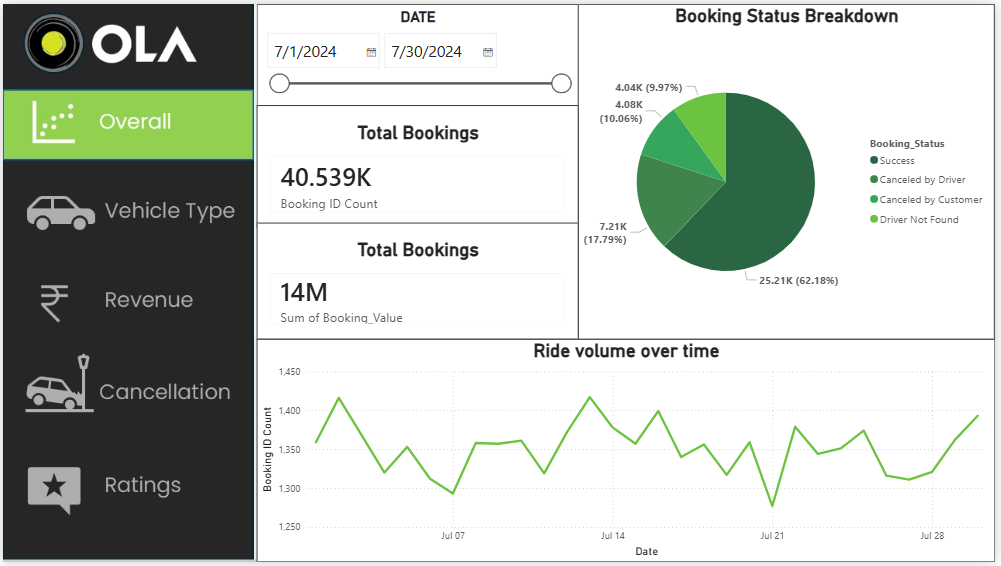

The page's visual inventory and layout, read from the dashboard file:
{"tool":"powerbi","page":{"name":"Overall","canvas":[1280,720],"ordinal":0},"visuals":[{"type":"actionButton","box":[0,210.2,326.5,112.2],"z":0},{"type":"actionButton","box":[0,322.4,326.5,110.2],"z":1000},{"type":"actionButton","box":[0,432.7,326.5,126.5],"z":2000},{"type":"actionButton","box":[0,559.2,326.5,132.7],"z":3000},{"type":"actionButton","box":[0,116.3,326.5,77.6],"z":4000},{"type":"lineChart","title":"Ride volume over time","fields":{"Y":["CountNonNull(July.Booking_ID)"],"Category":["July.Date"]},"box":[327,432.4,952.7,287.8],"z":5000},{"type":"pieChart","title":"Booking Status Breakdown","fields":{"Category":["July.Booking_Status"],"Y":["CountNonNull(July.Booking_Status)"]},"box":[742.5,0,537.5,432.5],"z":6000},{"type":"slicer","title":"DATE","fields":{"Values":["July.Date"]},"box":[327,0,414.9,135.1],"z":7000},{"type":"cardVisual","title":"Total Bookings ","fields":{"Data":["CountNonNull(July.Booking_ID)"]},"box":[327.5,130,415,157.5],"z":8000},{"type":"cardVisual","title":"Total Bookings ","fields":{"Data":["Sum(July.Booking_Value)"]},"box":[327.5,282.5,415,150],"z":9000}]}

Visuals, with their boxes in screenshot pixels (x1, y1, x2, y2), scaled from the page's 1280x720 canvas onto the 1001x566 screenshot:
actionButton: 0,165,255,253
actionButton: 0,253,255,340
actionButton: 0,340,255,440
actionButton: 0,440,255,544
actionButton: 0,91,255,152
"Ride volume over time" lineChart: 256,340,1000,565
"Booking Status Breakdown" pieChart: 581,0,1000,340
"DATE" slicer: 256,0,580,106
"Total Bookings " cardVisual: 256,102,581,226
"Total Bookings " cardVisual: 256,222,581,340
